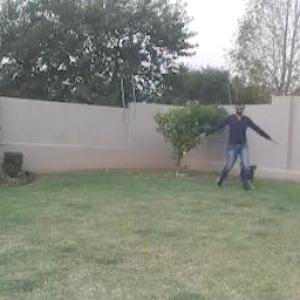land: (185, 94, 271, 196)
